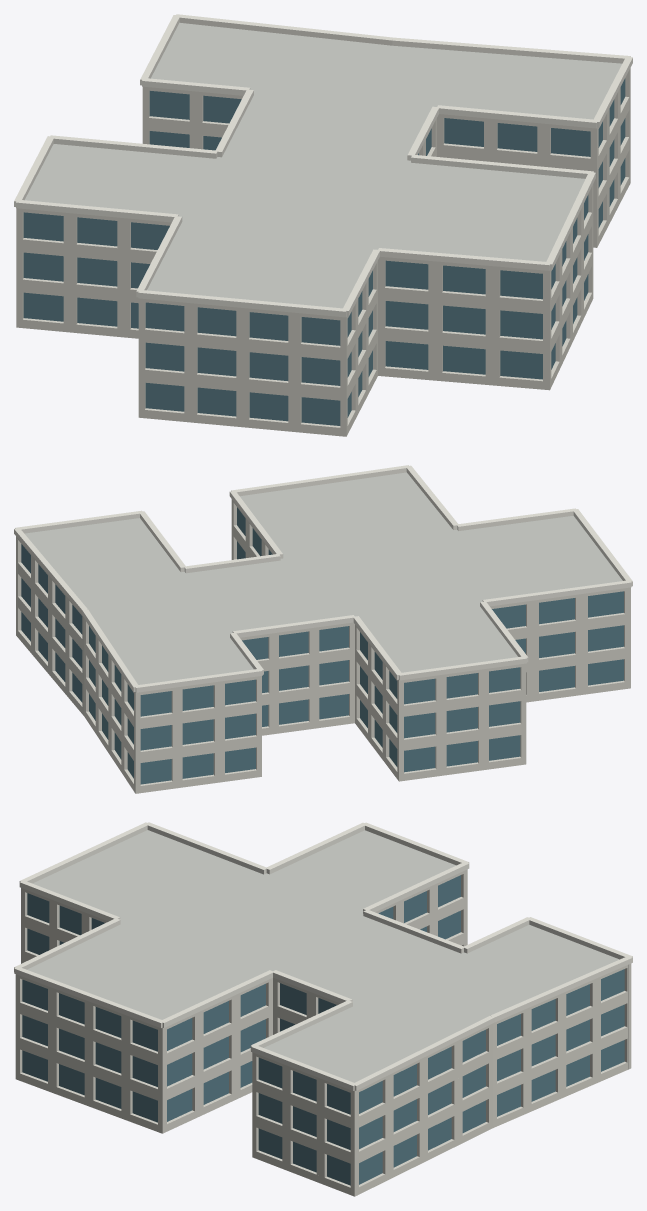
File: sb_1281965503.far.glb
The picture shows the model from 3 angles, top to bottom: view 1: azimuth 30°, elevation 25°; view 2: azimuth 150°, elevation 25°; view 3: azimuth 270°, elevation 25°; orthographic projection. The views are drawn at different scales.
Parts seen in each view (by area): view 1: roof, wall, glass, trim; view 2: roof, wall, glass, trim; view 3: roof, wall, glass, trim.
Boxes of the visible parts, x1,y1,x2,y2 form: roof: [25, 22, 621, 308]; wall: [16, 68, 630, 436]; glass: [23, 78, 625, 425]; trim: [14, 14, 632, 317]; roof: [25, 472, 622, 684]; wall: [16, 499, 630, 793]; glass: [21, 507, 623, 784]; trim: [14, 465, 632, 692]; roof: [27, 830, 619, 1082]; wall: [15, 869, 631, 1196]; glass: [22, 875, 624, 1185]; trim: [14, 822, 632, 1090].
Size of the model in its own units: 49.52 by 9.74 by 49.09.
